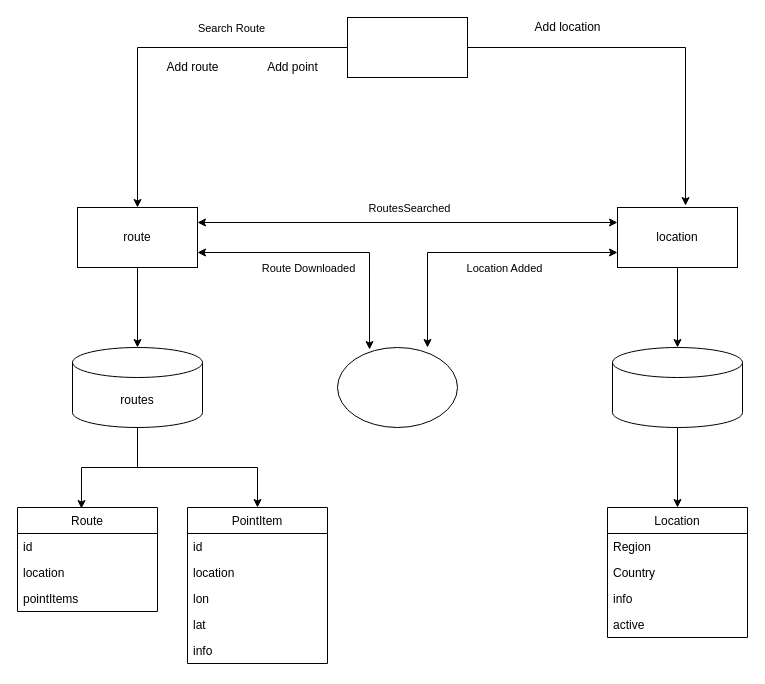
The diagram is 765 pixels wide and 684 high, and some of its shapes have lost their labels. The shapes that lost their labels are listed below. From the top down, each one's centre as x and y in pixels, then its label:
the point at 407,47: FrontEnd
the point at 397,387: Service Event
the point at 677,387: locations
